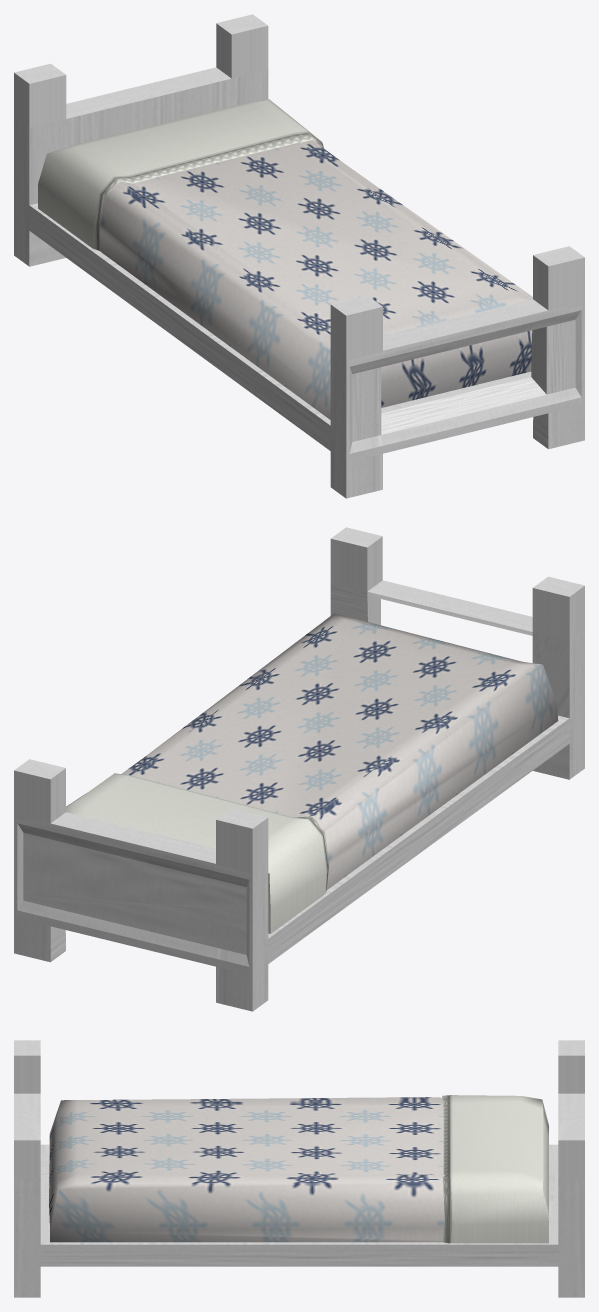
Rendered from Kiddie_Bed_B.FBX.
3 views of the same model, one above another, from view 1: azimuth 30°, elevation 25°; view 2: azimuth 150°, elevation 25°; view 3: azimuth 270°, elevation 25° (orthographic). The views are drawn at different scales.
Parts seen in each view (by area): view 1: Kiddie_Bed; view 2: Kiddie_Bed; view 3: Kiddie_Bed.
Part boxes in pixels (x1=…): Kiddie_Bed: x1=14, y1=14, x2=584, y2=498; Kiddie_Bed: x1=14, y1=527, x2=584, y2=1011; Kiddie_Bed: x1=14, y1=1040, x2=584, y2=1297.
Bounding box in the file's own units: 185 × 135 × 445.
